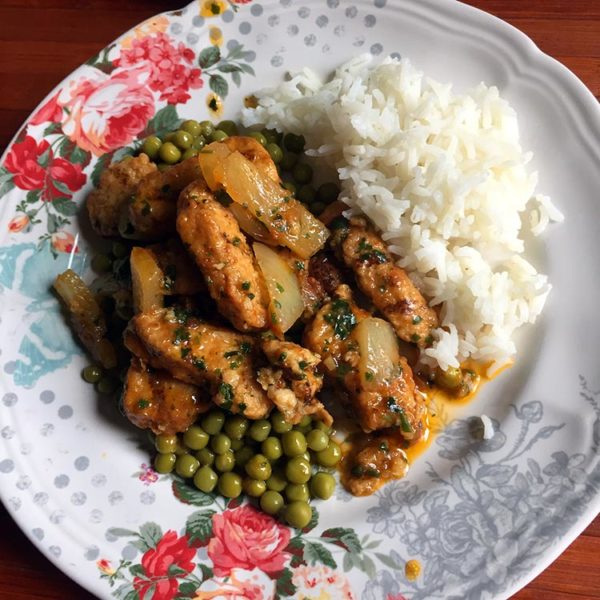bouillon de legume: (425, 395, 451, 436)
oignon: (260, 248, 310, 326)
petit pois: (172, 418, 337, 524)
poulet: (151, 201, 232, 390)
riz: (401, 39, 505, 267)
